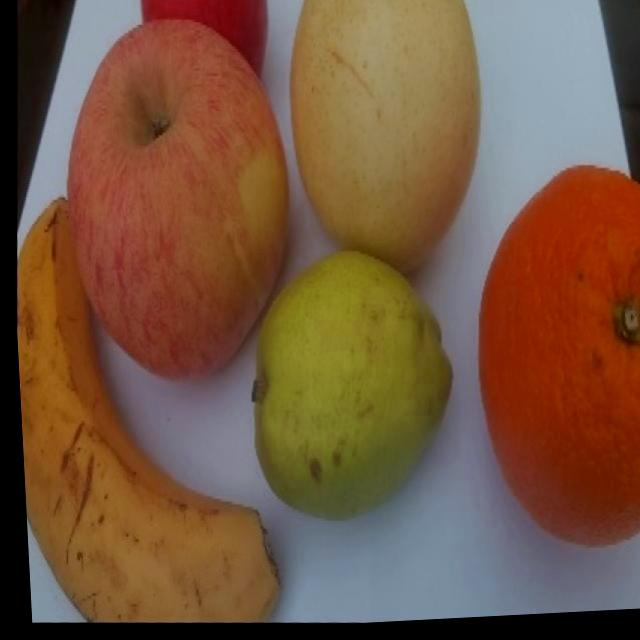Apple: (44, 5, 311, 399), (132, 0, 280, 88)
Banana: (8, 183, 300, 634)
Orange: (450, 162, 640, 565)
